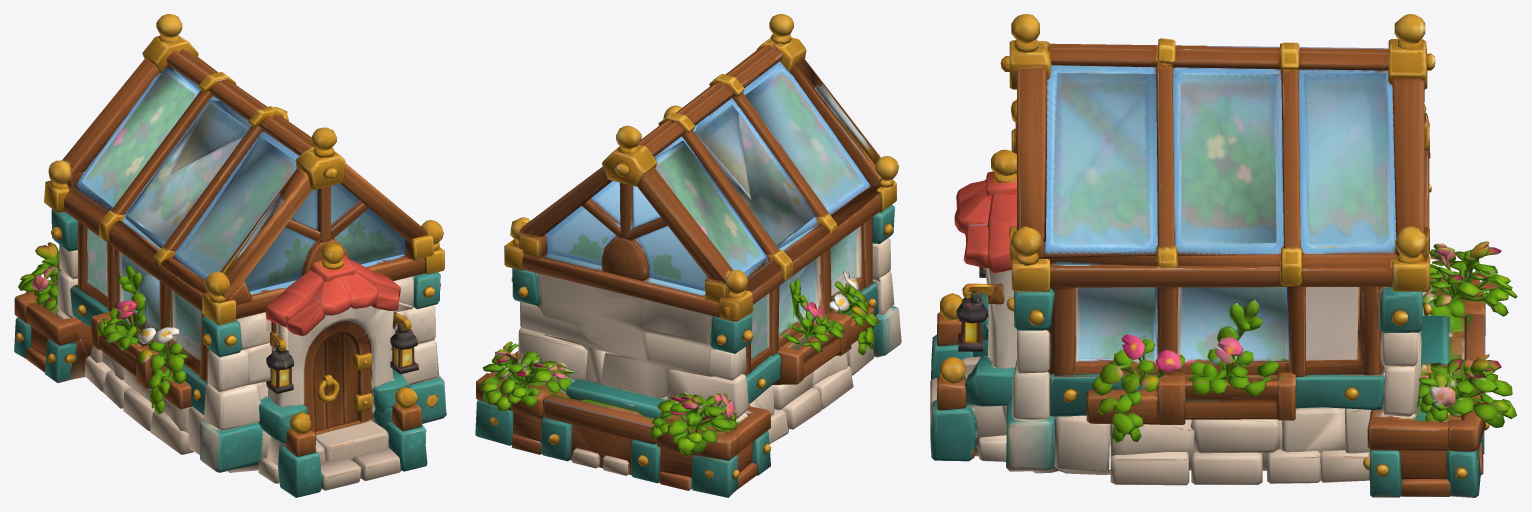
Rendered from greenhouse.glb.
3 views of the same model, side by side, from view 1: azimuth 30°, elevation 25°; view 2: azimuth 150°, elevation 25°; view 3: azimuth 270°, elevation 25° (orthographic). The views are drawn at different scales.
Size of the model in its own units: 0.6509 by 0.7285 by 0.9546.
Materials: 1 (1 with a texture image).
